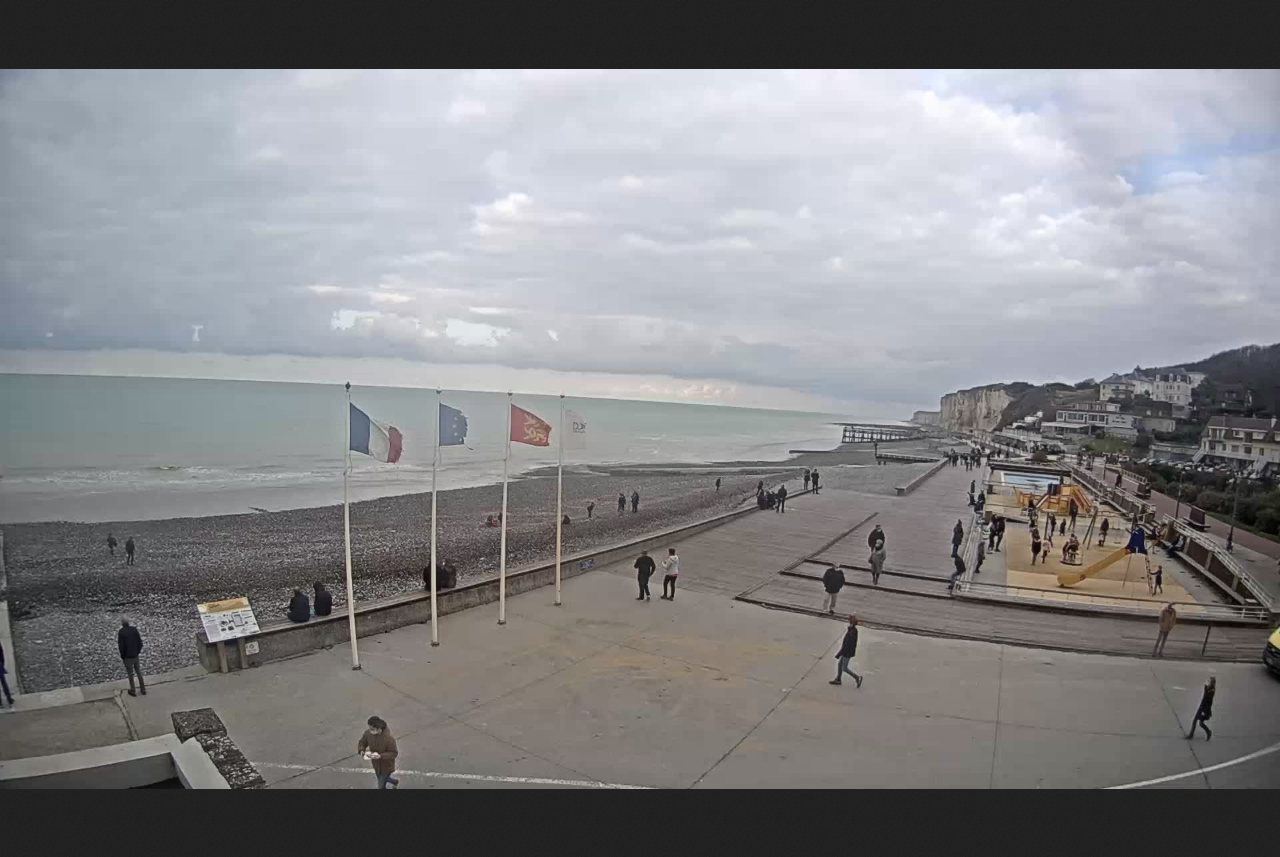yes: (343, 397, 404, 463), (502, 402, 554, 452), (433, 401, 472, 454), (557, 401, 591, 457)
